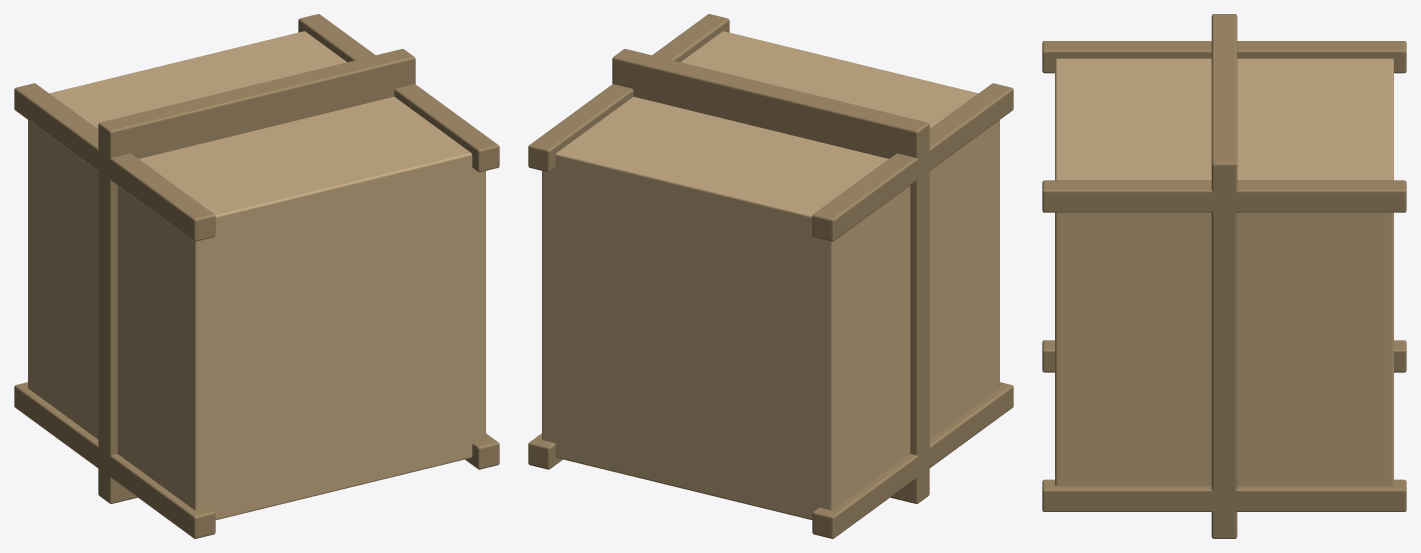
The model's file is crate.glb.
3 renders of one model, left to right at view 1: azimuth 30°, elevation 25°; view 2: azimuth 150°, elevation 25°; view 3: azimuth 270°, elevation 25°, orthographic.
Parts seen in each view (by area): view 1: Crate; view 2: Crate; view 3: Crate.
Boxes of the visible parts, <box> form: Crate: <box>14,14,499,538</box>; Crate: <box>528,14,1013,538</box>; Crate: <box>1042,14,1406,538</box>.
Size of the model in its own units: 1.68 by 1.96 by 1.72.
